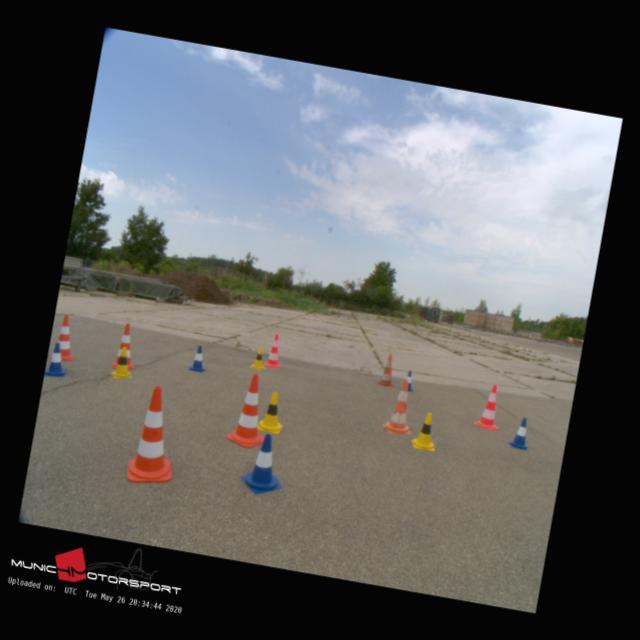blue_cone: (241, 431, 288, 496), (44, 342, 69, 378), (508, 416, 532, 450), (187, 343, 208, 372), (401, 369, 415, 390)
large_orange_cone: (124, 384, 186, 486), (224, 370, 275, 448), (382, 378, 419, 436), (474, 382, 504, 430), (50, 314, 80, 361), (110, 322, 140, 369), (262, 333, 286, 368), (376, 352, 398, 387)
yellow_cone: (256, 388, 288, 434), (410, 410, 440, 450), (108, 344, 136, 380), (248, 346, 268, 370)
